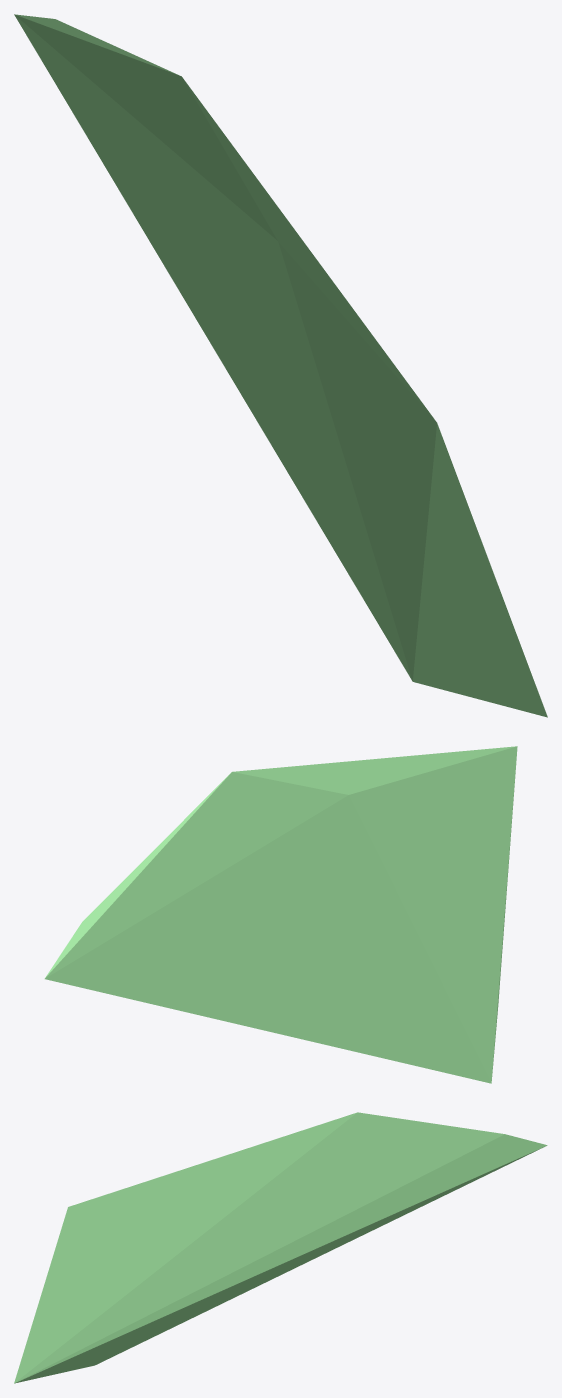
Rendered from linkhou_LR4_R560_link6_respondable_coll_4.dae.
3 views of the same model, one above another, from view 1: azimuth 30°, elevation 25°; view 2: azimuth 150°, elevation 25°; view 3: azimuth 270°, elevation 25° (orthographic). The views are drawn at different scales.
Parts seen in each view (by area): view 1: Node_00000209DB3AB0A0; view 2: Node_00000209DB3AB0A0; view 3: Node_00000209DB3AB0A0.
Part boxes in pixels (x1=…): Node_00000209DB3AB0A0: x1=14, y1=14, x2=547, y2=717; Node_00000209DB3AB0A0: x1=44, y1=746, x2=517, y2=1083; Node_00000209DB3AB0A0: x1=14, y1=1112, x2=547, y2=1383.
Bounding box in the file's own units: 0.00414 × 0.0248 × 0.0476.
